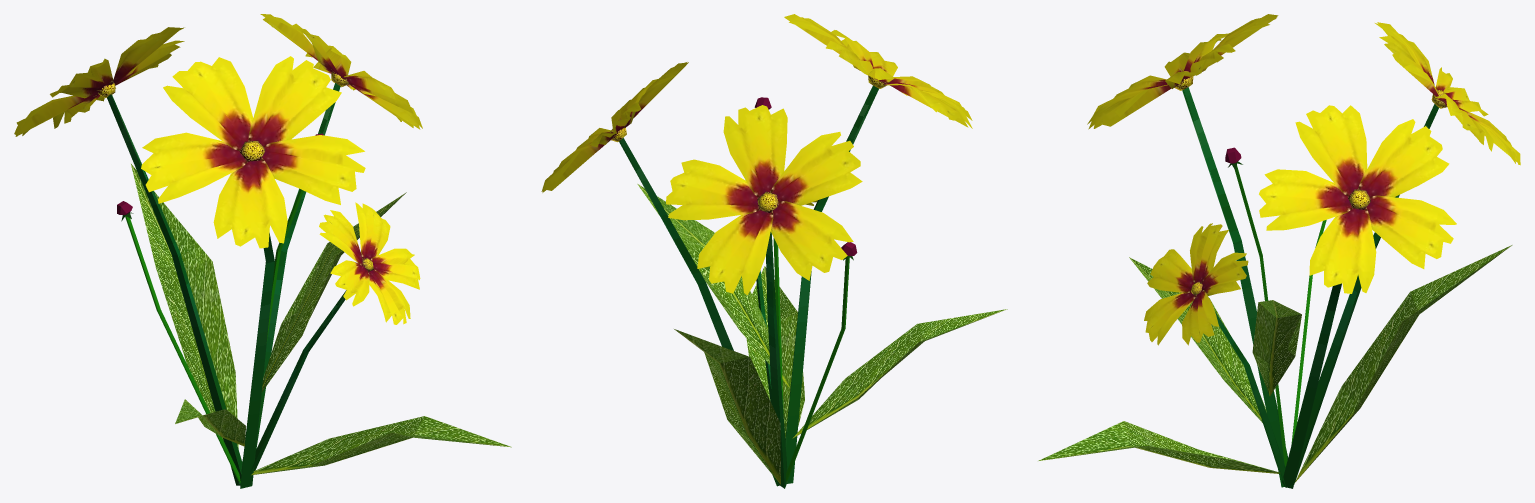
The model's file is flower_yellow.glb.
The picture shows the model from 3 angles, left to right: view 1: azimuth 30°, elevation 25°; view 2: azimuth 150°, elevation 25°; view 3: azimuth 270°, elevation 25°; orthographic projection.
Parts seen in each view (by area): view 1: Circle.003; view 2: Circle.003; view 3: Circle.003.
Boxes of the visible parts, x1,y1,x2,y2 form: Circle.003: [14, 14, 511, 488]; Circle.003: [541, 14, 1007, 488]; Circle.003: [1038, 14, 1520, 488].
Size of the model in its own units: 1.44 by 1.77 by 1.74.
Materials: 7 (4 with a texture image).
